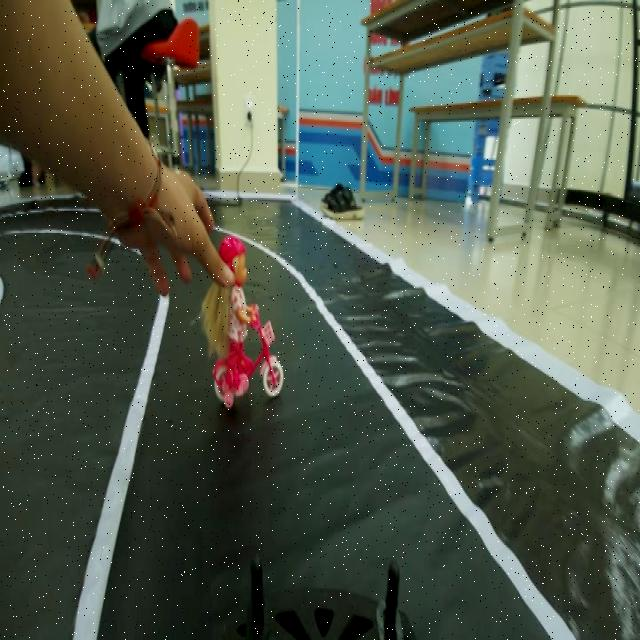pedestrian: (198, 239, 294, 391)
